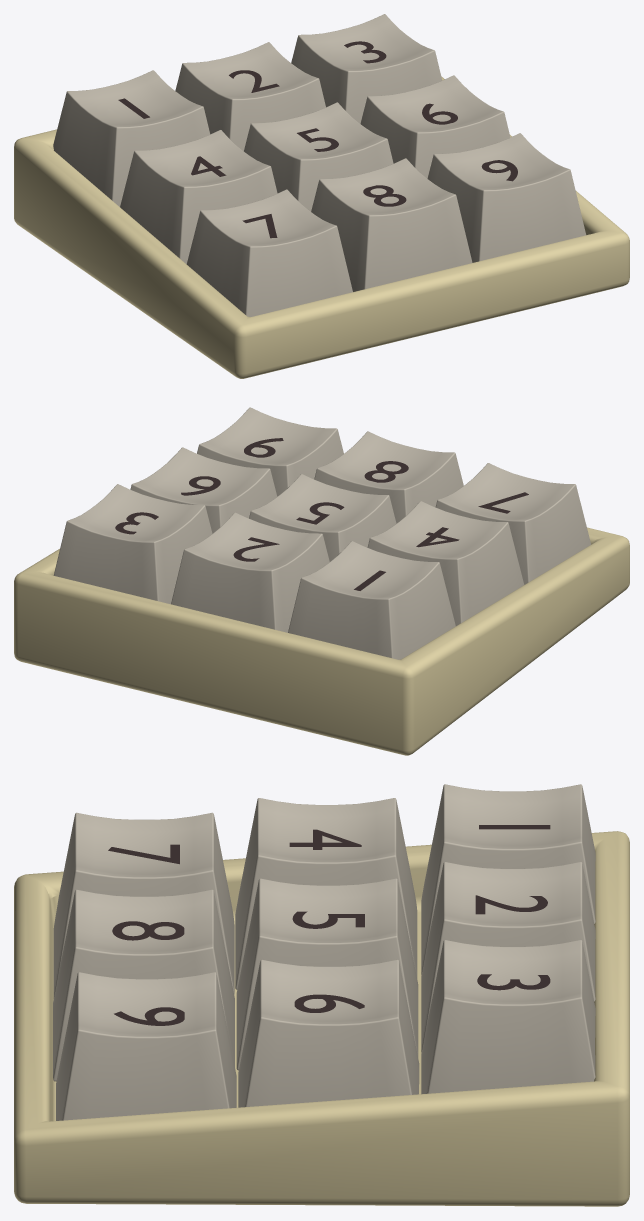
Rendered from updatedkeypad2.fbx.
The picture shows the model from 3 angles, top to bottom: view 1: azimuth 30°, elevation 25°; view 2: azimuth 150°, elevation 25°; view 3: azimuth 270°, elevation 25°; orthographic projection. The views are drawn at different scales.
Parts seen in each view (by area): view 1: Plane, Plane.007, Plane.008, Plane.009, Plane.002, Plane.004, Plane.003, Plane.001, Plane.005, Plane.006; view 2: Plane, Plane.002, Plane.001, Plane.003, Plane.004, Plane.007, Plane.008, Plane.009, Plane.005, Plane.006; view 3: Plane, Plane.003, Plane.009, Plane.006, Plane.008, Plane.005, Plane.004, Plane.007, Plane.002, Plane.001, Text.007, Text.005 (+5 smaller).
Boxes of the visible parts, x1,y1,x2,y2 form: Plane: (14, 76, 629, 378); Plane.007: (186, 189, 352, 316); Plane.008: (311, 158, 472, 291); Plane.009: (427, 133, 586, 262); Plane.002: (53, 70, 210, 206); Plane.004: (120, 130, 277, 263); Plane.003: (291, 14, 442, 123); Plane.001: (175, 42, 325, 151); Plane.005: (244, 102, 393, 211); Plane.006: (360, 75, 510, 178); Plane: (14, 527, 629, 755); Plane.002: (288, 541, 455, 659); Plane.001: (171, 512, 329, 632); Plane.003: (53, 484, 212, 604); Plane.004: (367, 501, 524, 625); Plane.007: (435, 463, 591, 584); Plane.008: (314, 431, 463, 523); Plane.009: (197, 407, 343, 496); Plane.005: (249, 474, 396, 561); Plane.006: (130, 447, 277, 533); Plane: (14, 831, 629, 1206); Plane.003: (421, 940, 595, 1094); Plane.009: (56, 972, 236, 1120); Plane.006: (238, 959, 419, 1107); Plane.008: (53, 889, 234, 1081); Plane.005: (236, 878, 418, 1070); Plane.004: (235, 798, 417, 989); Plane.007: (53, 812, 234, 998); Plane.002: (421, 784, 595, 974); Plane.001: (421, 862, 595, 1052); Text.007: (112, 921, 184, 940); Text.005: (294, 994, 364, 1012).
Size of the model in its own units: 195 by 63.98 by 190.
